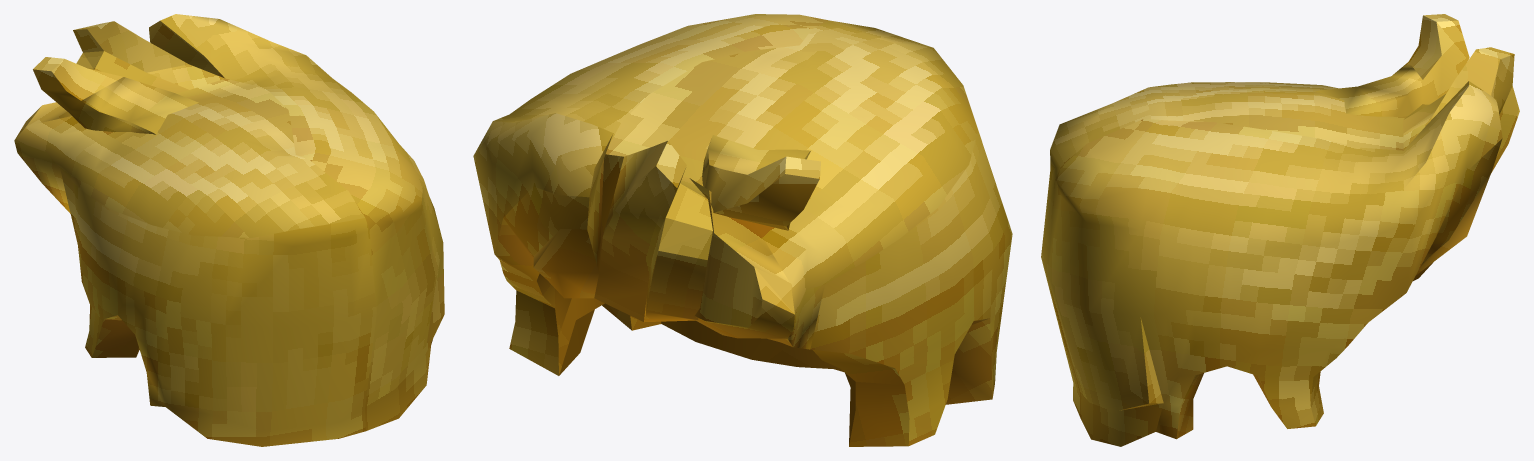
Rendered from spiky_hair.obj.
3 views of the same model, side by side, from view 1: azimuth 30°, elevation 25°; view 2: azimuth 150°, elevation 25°; view 3: azimuth 270°, elevation 25° (orthographic). The views are drawn at different scales.
Parts seen in each view (by area): view 1: Hair; view 2: Hair; view 3: Hair.
Part boxes in pixels (x1,y1,x2,y2): Hair: [14, 14, 444, 446]; Hair: [473, 14, 1012, 446]; Hair: [1041, 14, 1519, 446].
Bounding box in the file's own units: 1.38 × 1.28 × 1.68.
Materials: 1 (1 with a texture image).
